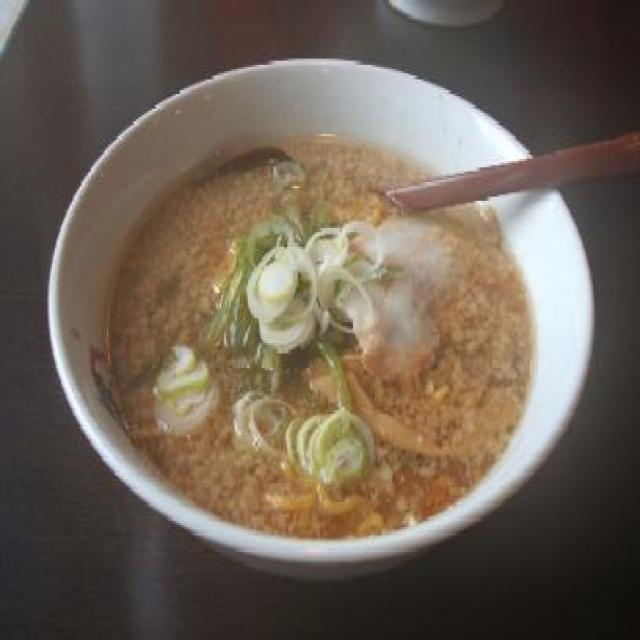面条主食: (56, 60, 594, 562)
